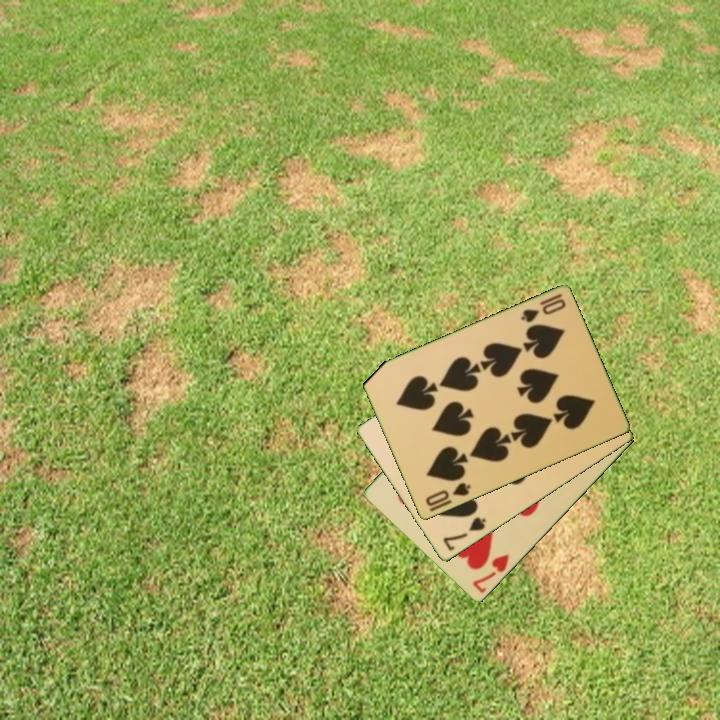10s: (517, 290, 569, 326), (422, 479, 474, 510)
7h: (469, 551, 512, 596)
7s: (439, 514, 489, 554)
